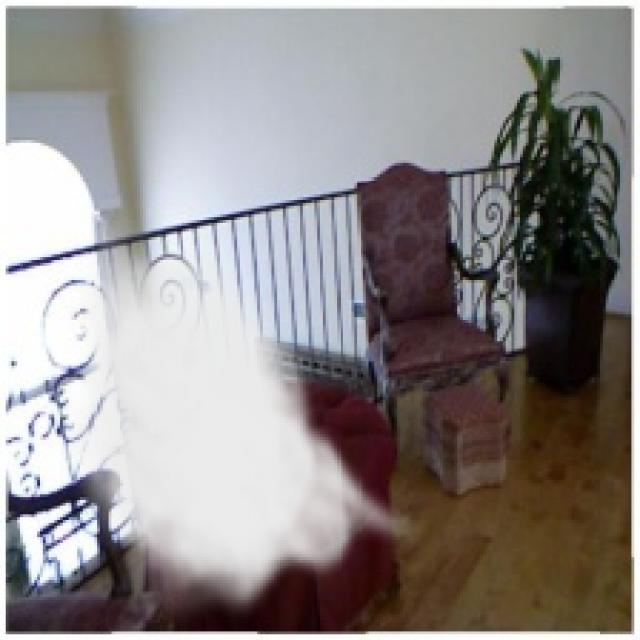smoke: (60, 217, 426, 623)
